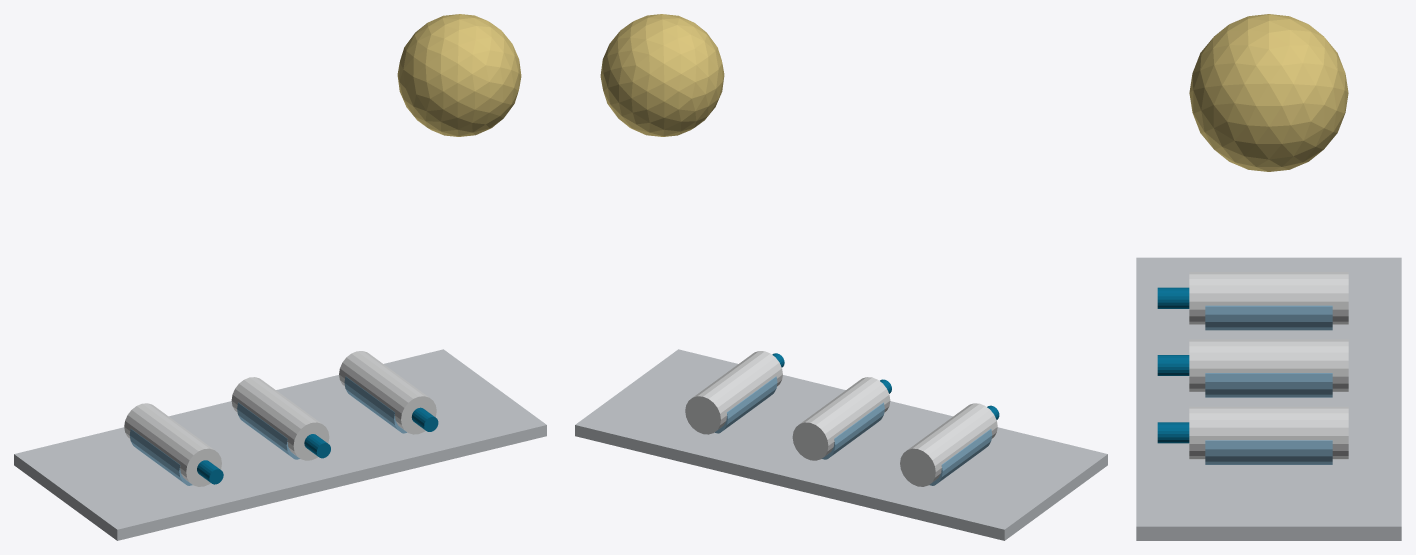
3 views of the same model, side by side, from view 1: azimuth 30°, elevation 25°; view 2: azimuth 150°, elevation 25°; view 3: azimuth 270°, elevation 25° (orthographic). The views are drawn at different scales.
Visible parts, largest first — view 1: part_superficie, part_sol, part_botella, part_agua; view 2: part_superficie, part_sol, part_botella, part_agua; view 3: part_superficie, part_botella, part_sol, part_agua.
Boxes of the visible parts, box(x1,y1,x2,y2) form: part_superficie: box(14, 349, 546, 540); part_sol: box(397, 14, 521, 136); part_botella: box(124, 351, 438, 486); part_agua: box(129, 376, 407, 485); part_superficie: box(575, 349, 1107, 540); part_sol: box(600, 14, 724, 136); part_botella: box(685, 351, 999, 486); part_agua: box(714, 376, 992, 485); part_superficie: box(1136, 257, 1401, 540); part_botella: box(1157, 272, 1348, 459); part_sol: box(1189, 14, 1348, 171); part_agua: box(1205, 305, 1332, 464).
Size of the model in its own units: 1.25 by 1.03 by 0.5.
